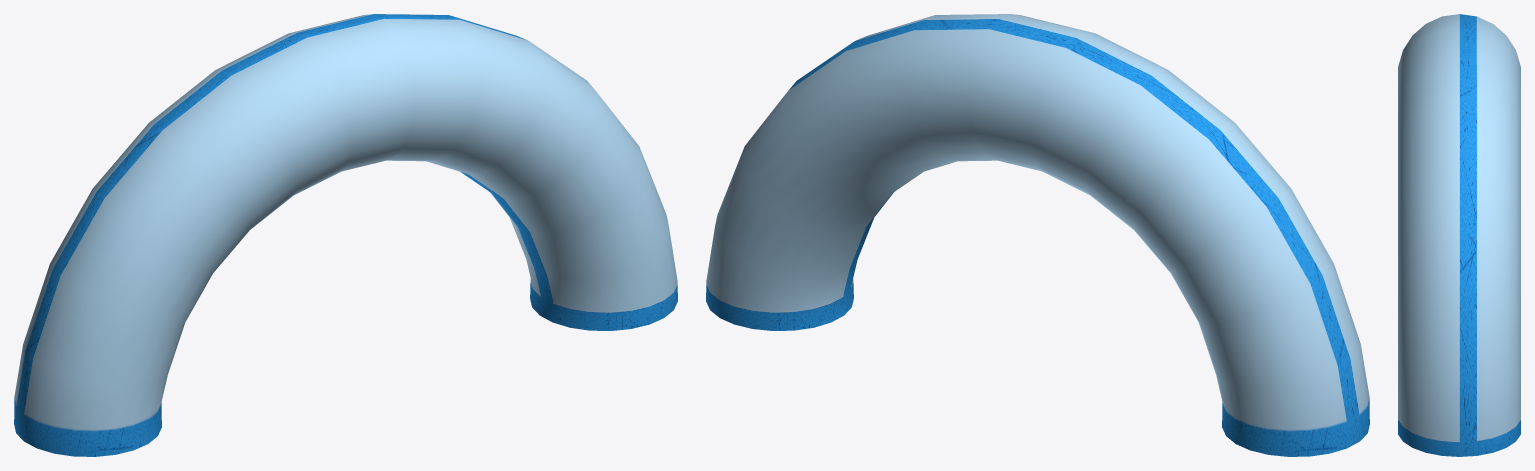
File: FUT0110024.fbx
3 views of the same model, side by side, from view 1: azimuth 30°, elevation 25°; view 2: azimuth 150°, elevation 25°; view 3: azimuth 270°, elevation 25° (orthographic). The views are drawn at different scales.
Visible parts, largest first — view 1: smFUT0110024; view 2: smFUT0110024; view 3: smFUT0110024.
Part boxes in pixels (x1,y1,x2,y2): smFUT0110024: (14,14,677,456); smFUT0110024: (706,14,1369,456); smFUT0110024: (1398,14,1520,456).
Bounding box in the file's own units: 1078 × 535 × 212.
Materials: 1 (1 with a texture image).
